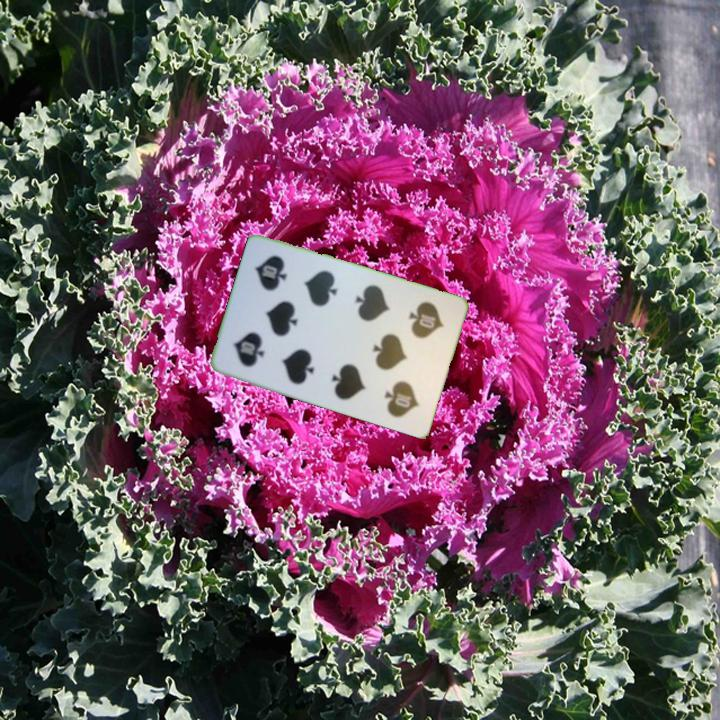s_10.png: (219, 301, 293, 381), (384, 289, 458, 369)
